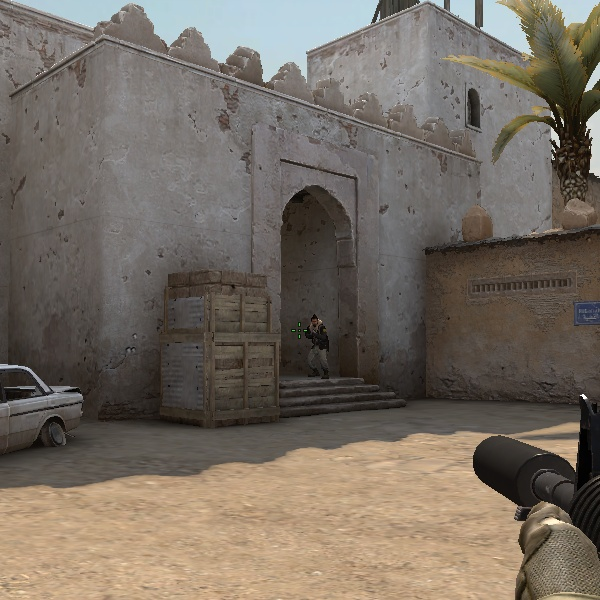t_body: (295, 310, 333, 382)
